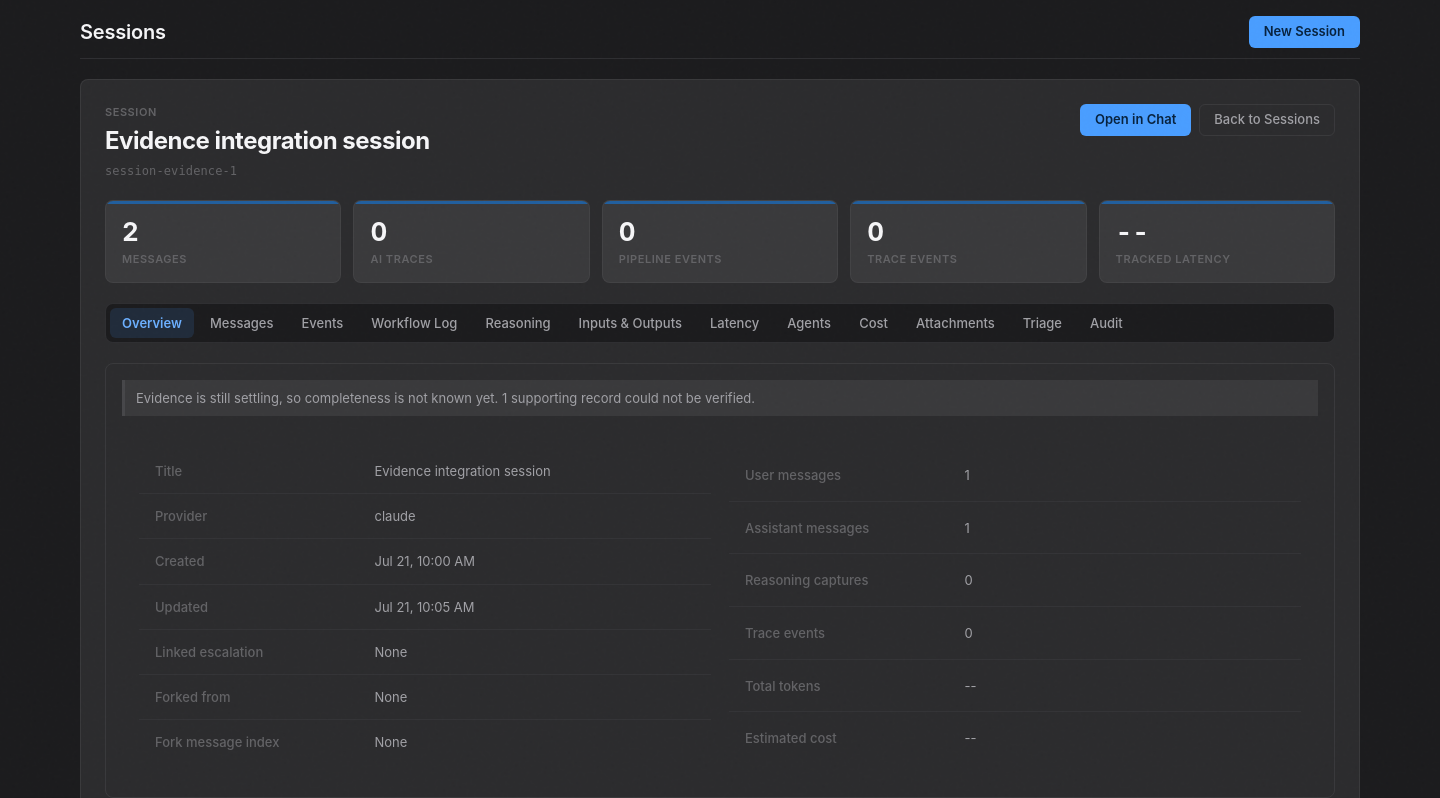
Scenario: SessionsView unknown evidence integration › keeps the list chip and Audit-tab evidence section consistent with the server response
Expected: the heading "Evidence integration session" is shown, [105, 127, 430, 156]
Click the button "Audit".
click(1106, 323)  # box [1078, 308, 1135, 338]
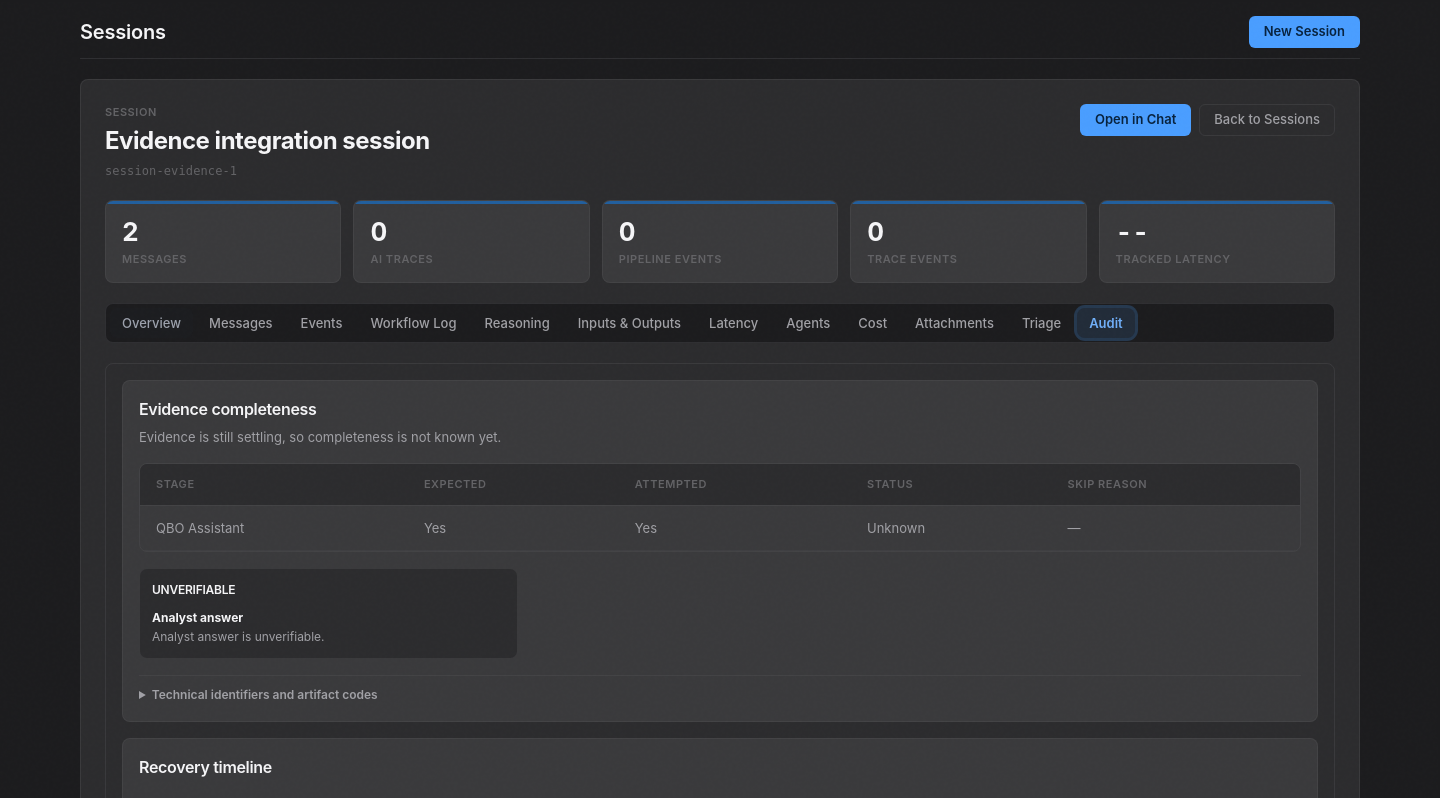
Expected: the text "Evidence is still settling, so completeness is not known yet." is shown, [139, 427, 501, 447]
Expected: the heading "Unverifiable" is shown, [152, 582, 235, 597]
Expected: the text "Analyst answer" is shown, [152, 610, 243, 625]
